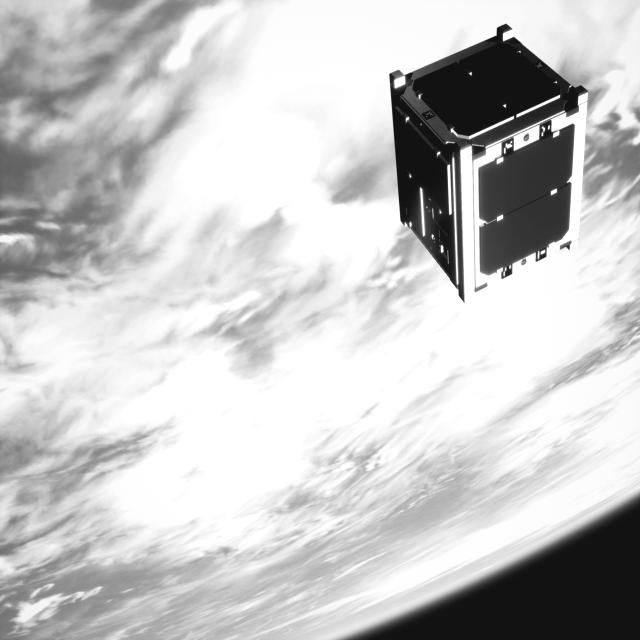medium_debris: (382, 22, 596, 308)
